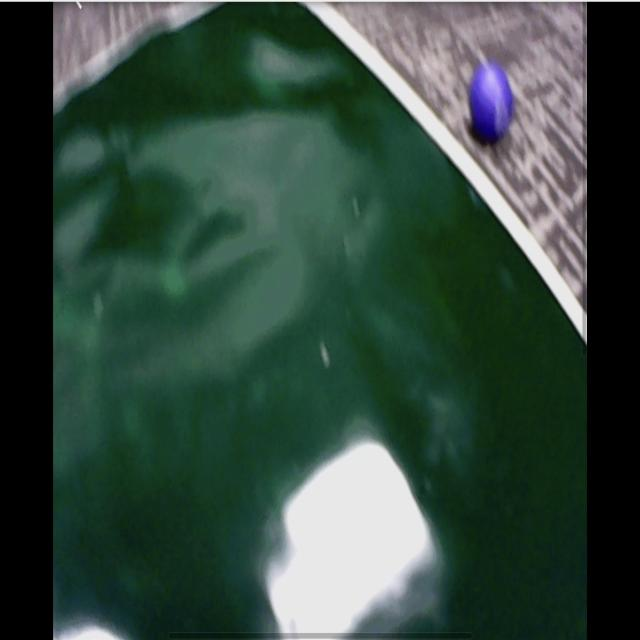ball: (468, 68, 514, 137)
